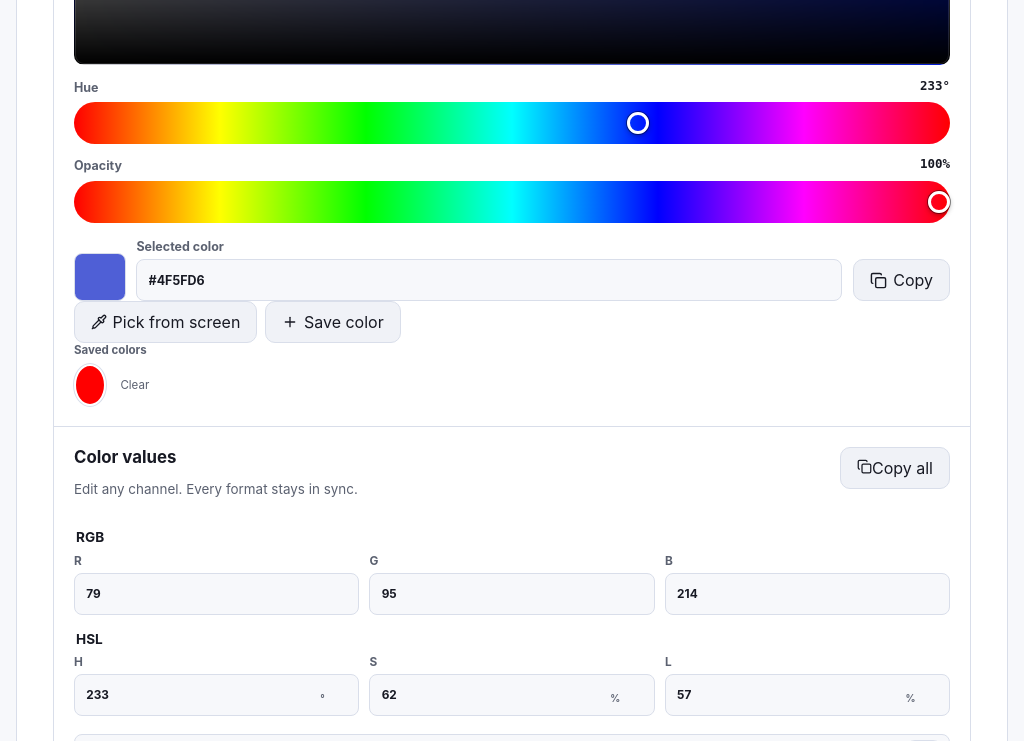
Scenario: Color Picker & Converter › recovers valid saved colors and ignores corrupt entries
(page scrolled)
What coordinates should you click on to do the following:
click the button named "Use saved color #FF0000"
I would click on:
 (90, 385)
Its box is [74,364,106,406].
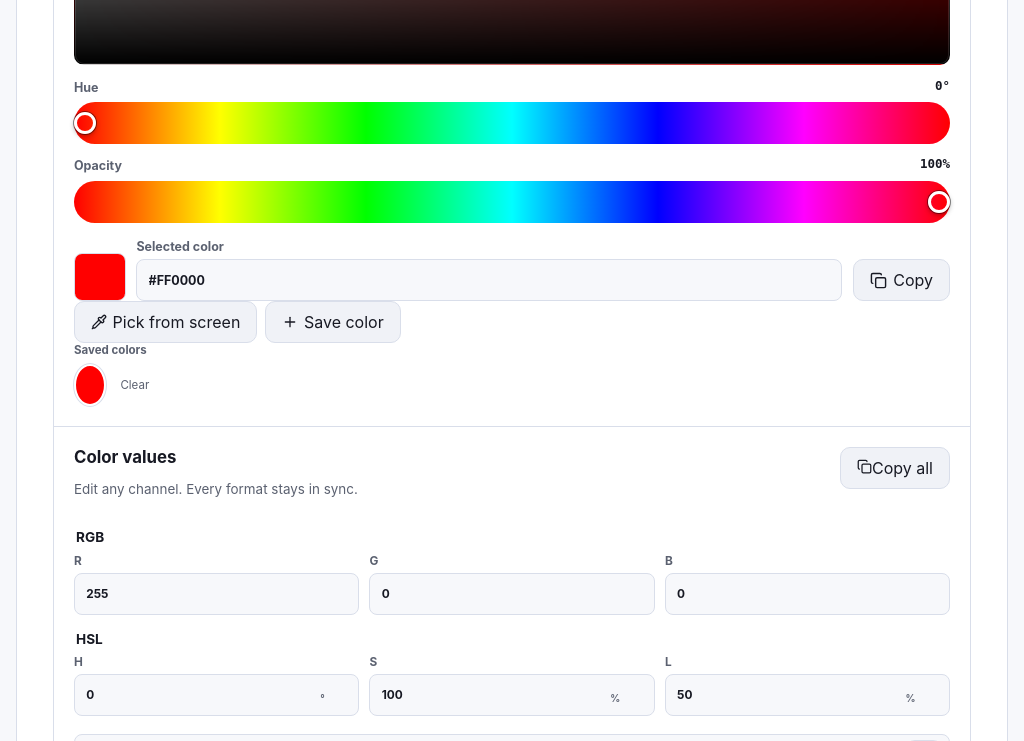
Check: the field named "HEX" holds "#FF0000", box [136,259,842,301]
